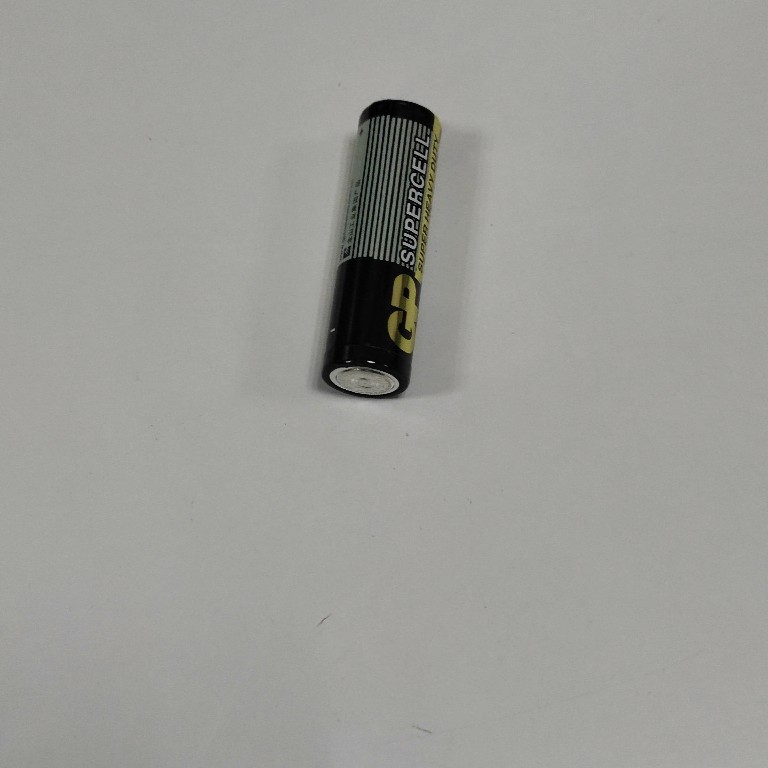charge: (310, 96, 445, 404)
